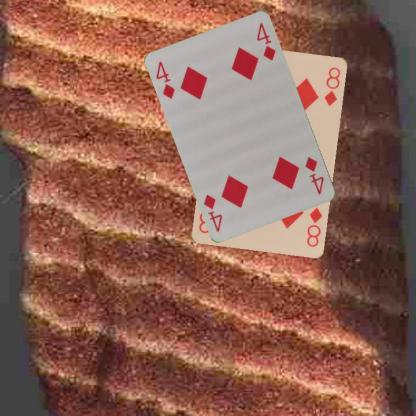4d: (302, 154, 326, 196), (153, 58, 177, 100)
8d: (304, 204, 324, 248)
